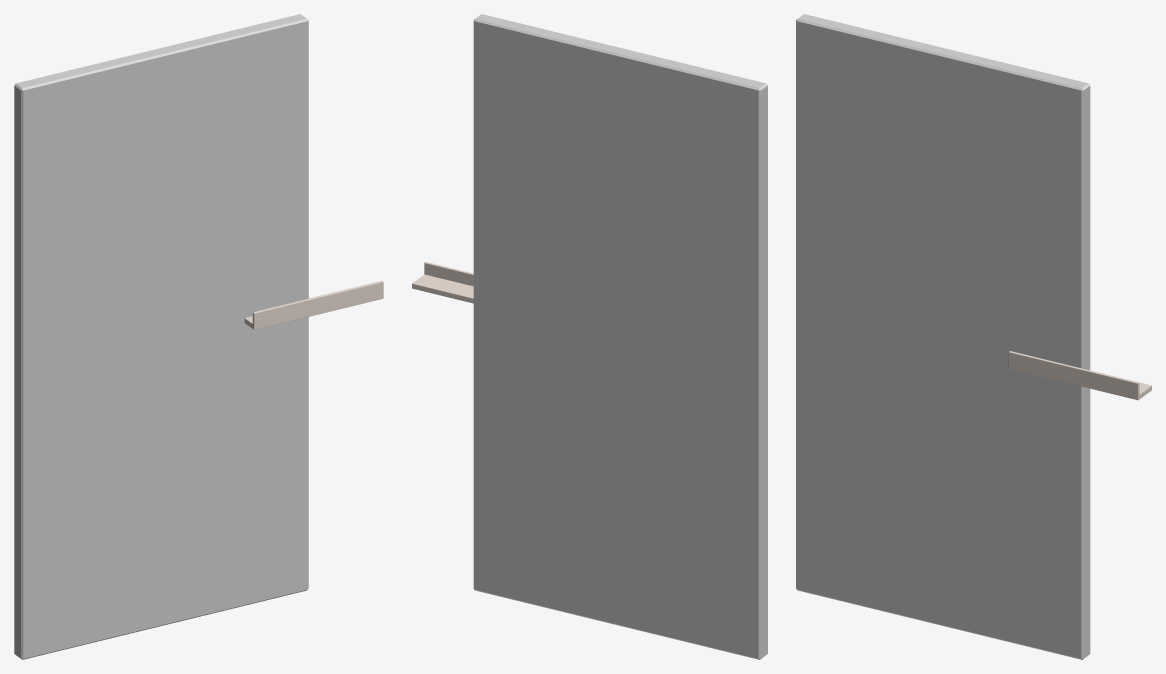
The model's file is Cabinet_b97fbe1d.obj.
3 renders of one model, left to right at view 1: azimuth 30°, elevation 25°; view 2: azimuth 150°, elevation 25°; view 3: azimuth 330°, elevation 25°, orthographic.
Visible parts, largest first — view 1: DoorMesh_01_3cc28078, handle_3_178mm_01_3a81c21f; view 2: DoorMesh_01_3cc28078, handle_3_178mm_01_3a81c21f; view 3: DoorMesh_01_3cc28078, handle_3_178mm_01_3a81c21f.
Boxes of the visible parts, bbox=[...] form: DoorMesh_01_3cc28078: bbox=[14, 14, 308, 659]; handle_3_178mm_01_3a81c21f: bbox=[244, 281, 383, 329]; DoorMesh_01_3cc28078: bbox=[473, 14, 767, 659]; handle_3_178mm_01_3a81c21f: bbox=[412, 262, 473, 303]; DoorMesh_01_3cc28078: bbox=[796, 14, 1090, 659]; handle_3_178mm_01_3a81c21f: bbox=[1008, 351, 1151, 400].
Bounding box in the file's own units: 0.484 × 0.75 × 0.0426.
